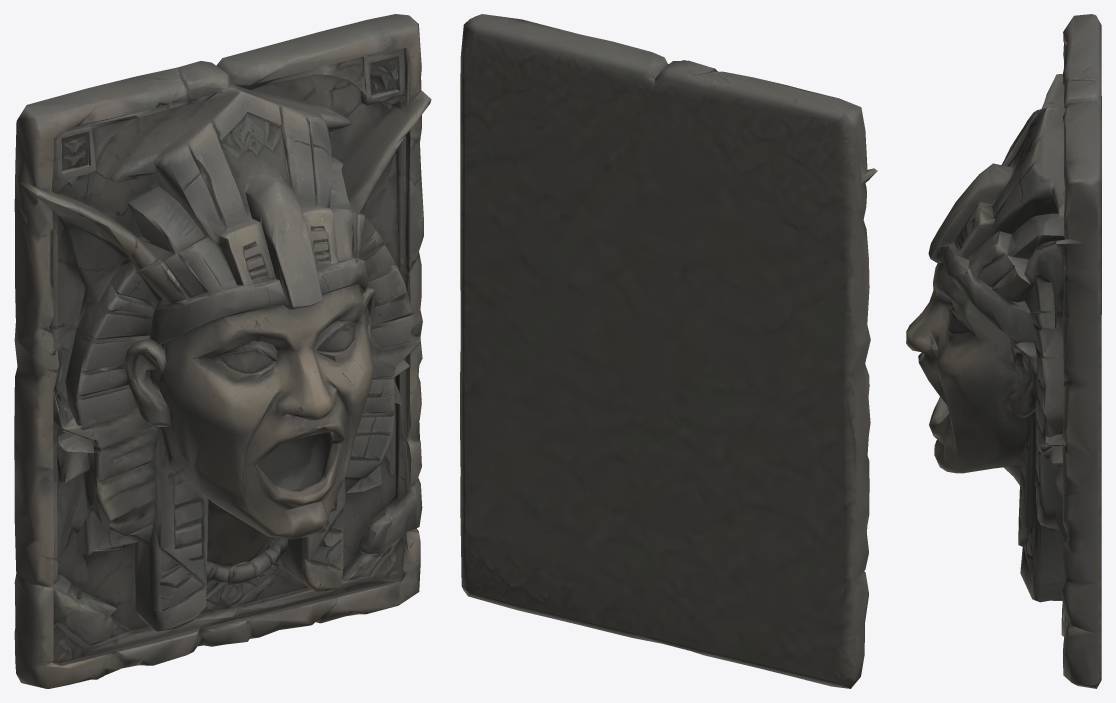
File: obj_wall_crystal_holder.glb
3 views of the same model, side by side, from view 1: azimuth 30°, elevation 25°; view 2: azimuth 150°, elevation 25°; view 3: azimuth 270°, elevation 25° (orthographic). The views are drawn at different scales.
Visible parts, largest first — view 1: Mesh_0; view 2: Mesh_0; view 3: Mesh_0.
Part boxes in pixels (<box>): Mesh_0: <box>14,14,431,688</box>; Mesh_0: <box>460,14,877,688</box>; Mesh_0: <box>906,14,1101,688</box>.
Bounding box in the file's own units: 1.37 × 1.9 × 0.6577.
1 material, 1 textured.
